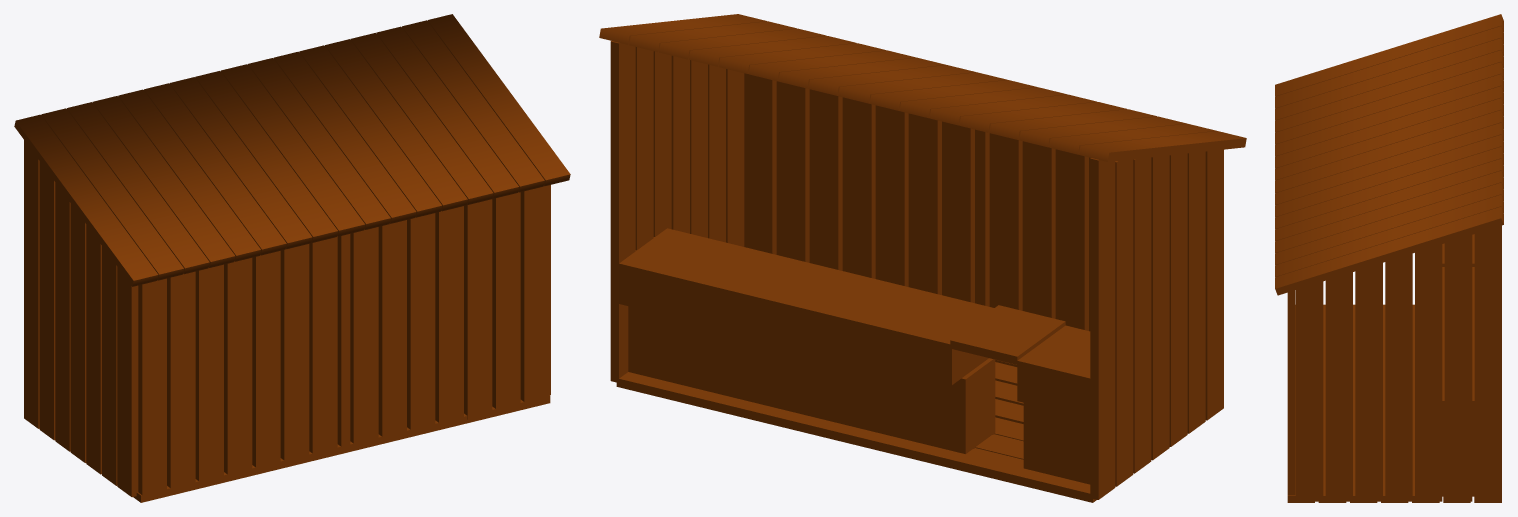
File: petiteechopebois.fbx
The picture shows the model from 3 angles, left to right: view 1: azimuth 30°, elevation 25°; view 2: azimuth 150°, elevation 25°; view 3: azimuth 270°, elevation 25°; orthographic projection. The views are drawn at different scales.
Parts seen in each view (by area): view 1: petiteechopebois; view 2: petiteechopebois; view 3: petiteechopebois.
Part boxes in pixels (x1,y1,x2,y2): petiteechopebois: [14, 14, 570, 502]; petiteechopebois: [599, 14, 1246, 502]; petiteechopebois: [1275, 14, 1503, 502].
Size of the model in its own units: 1344 by 894 by 636.
